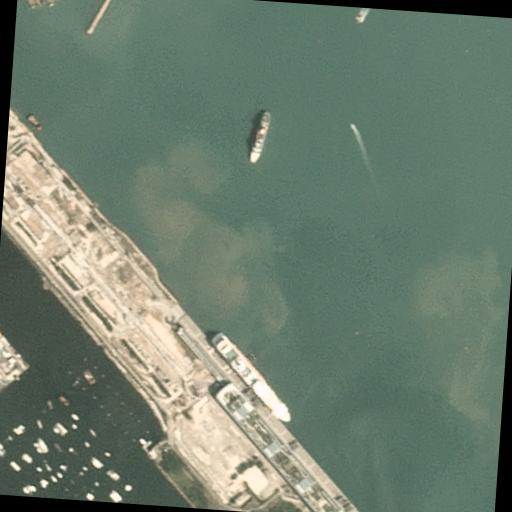ship: (206, 330, 298, 422), (248, 108, 271, 164), (26, 112, 44, 130), (248, 352, 258, 360), (350, 122, 357, 130)
